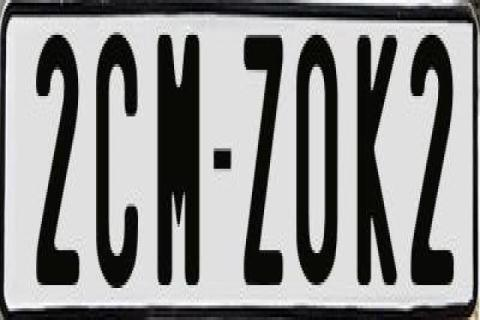0: (408, 35, 452, 299), (296, 26, 340, 288), (35, 35, 81, 285)
C: (94, 29, 142, 294)
K: (358, 32, 400, 296)
M: (154, 29, 200, 294)
Z: (240, 35, 286, 303)
